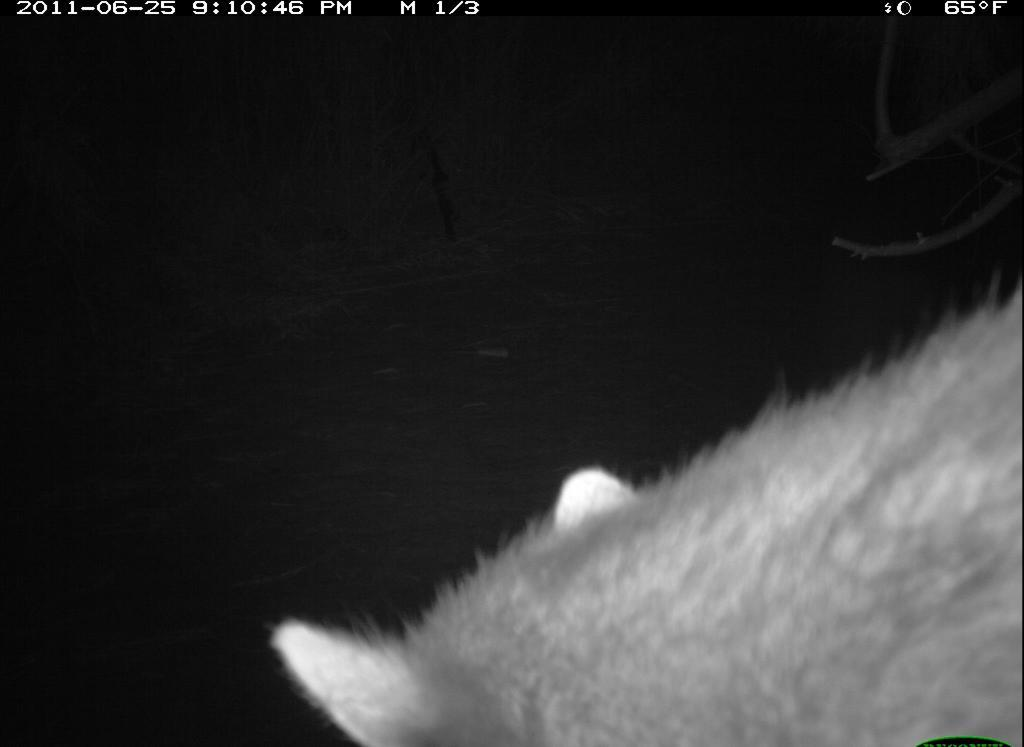raccoon: (269, 277, 1022, 747)
